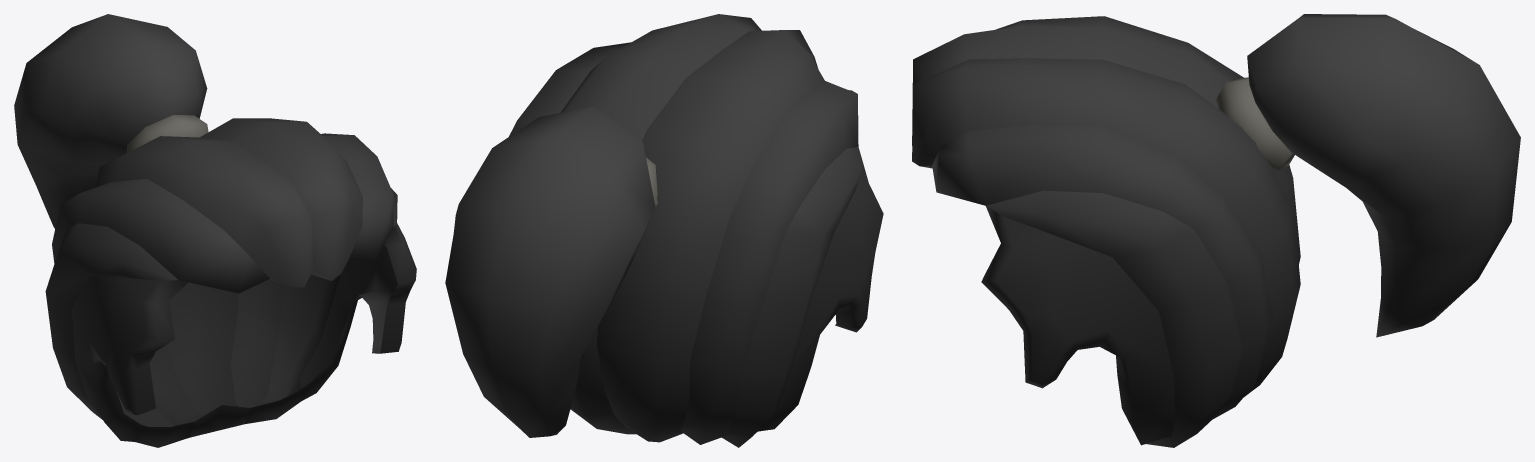
File: Hair_Black_11.fbx
The picture shows the model from 3 angles, left to right: view 1: azimuth 30°, elevation 25°; view 2: azimuth 150°, elevation 25°; view 3: azimuth 270°, elevation 25°; orthographic projection. The views are drawn at different scales.
Parts seen in each view (by area): view 1: Hair_Black_11; view 2: Hair_Black_11; view 3: Hair_Black_11.
Boxes of the visible parts, x1,y1,x2,y2 form: Hair_Black_11: (14,14,416,447); Hair_Black_11: (445,14,883,447); Hair_Black_11: (912,14,1520,447).
Bounding box in the file's own units: 54.98 × 59.13 × 83.25.
